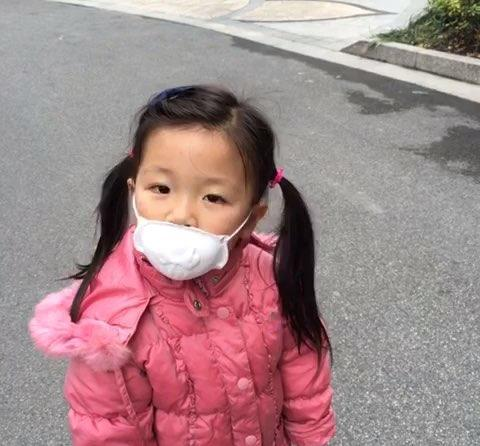WRONG: (132, 162, 250, 280)
